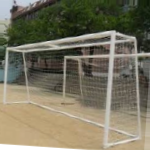goals: (3, 29, 143, 149)
